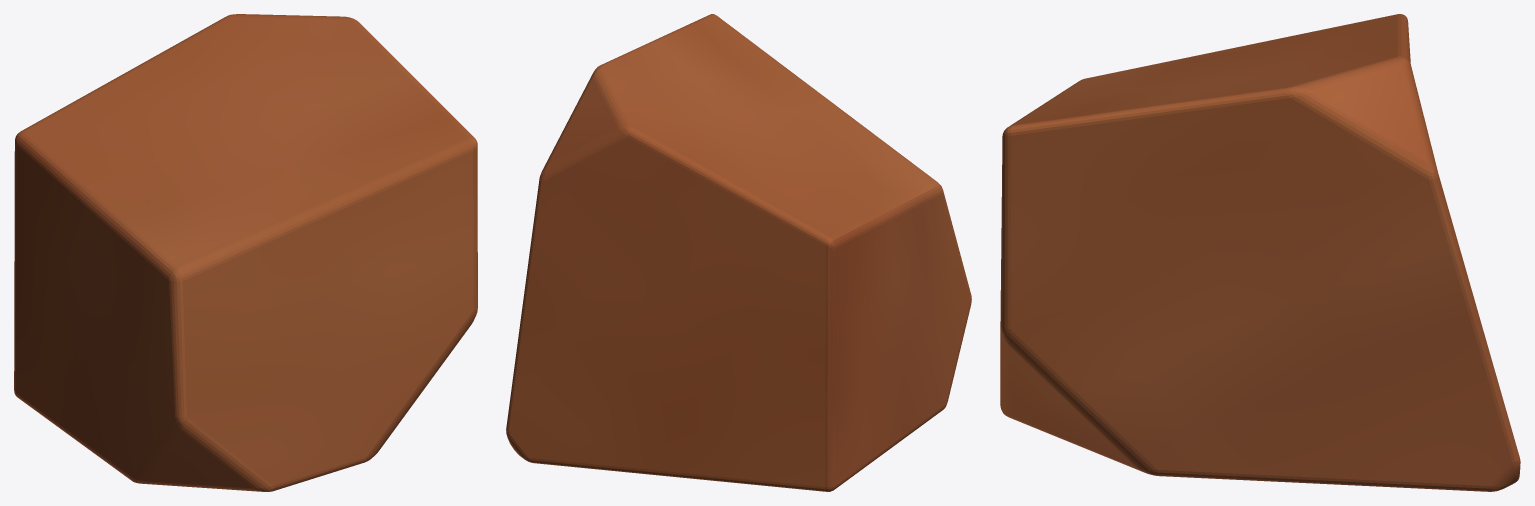
The model's file is Pedra.fbx.
3 views of the same model, side by side, from view 1: azimuth 30°, elevation 25°; view 2: azimuth 150°, elevation 25°; view 3: azimuth 270°, elevation 25° (orthographic). The views are drawn at different scales.
Visible parts, largest first — view 1: Cube.013; view 2: Cube.013; view 3: Cube.013.
Boxes of the visible parts, box(x1,y1,x2,y2) form: Cube.013: box(14, 14, 477, 491); Cube.013: box(506, 14, 971, 491); Cube.013: box(1000, 14, 1520, 491).
Size of the model in its own units: 926 by 1019 by 1181.
